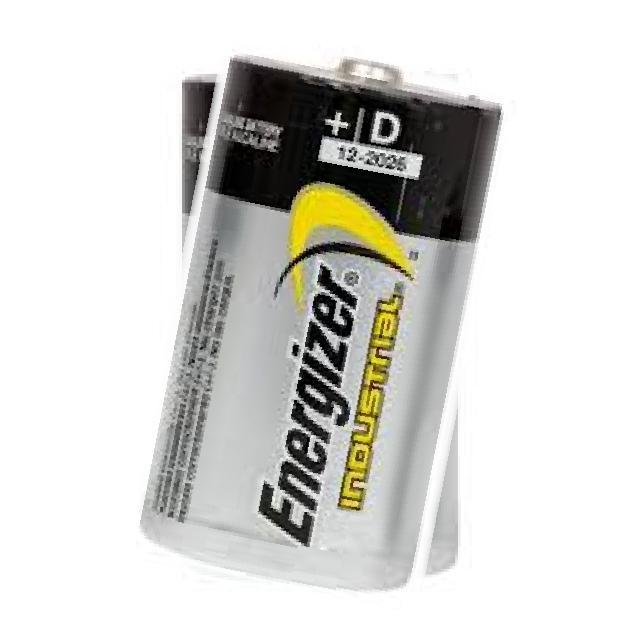Battery: (135, 56, 504, 585)
